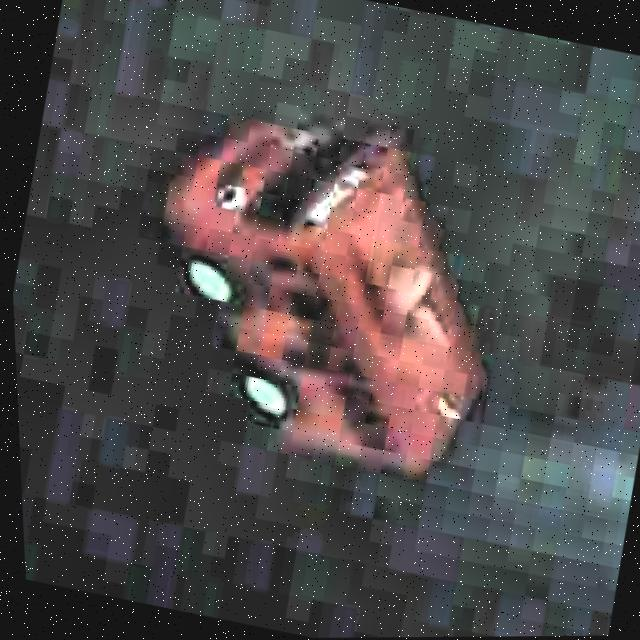bus: (107, 80, 544, 499)
